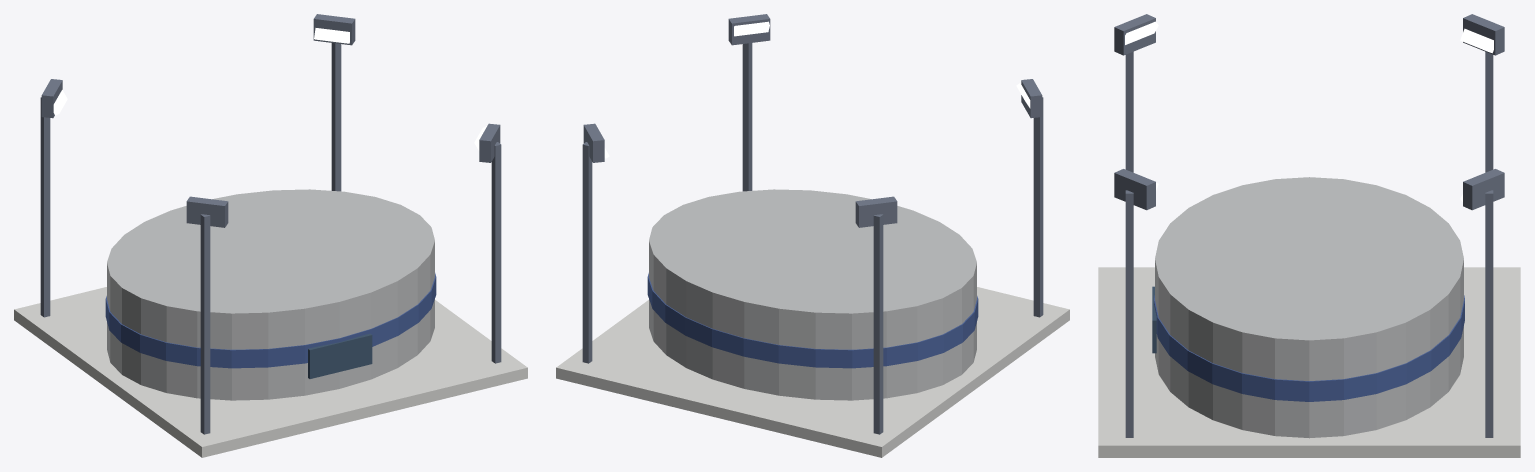
The model's file is stadium.glb.
3 views of the same model, side by side, from view 1: azimuth 30°, elevation 25°; view 2: azimuth 150°, elevation 25°; view 3: azimuth 270°, elevation 25° (orthographic). The views are drawn at different scales.
Visible parts, largest first — view 1: stadium_body; view 2: stadium_body; view 3: stadium_body, Floodlight_2.
Part boxes in pixels (left/top/right/bottom): stadium_body: left=14, top=14, right=527, bottom=457; stadium_body: left=556, top=14, right=1069, bottom=457; stadium_body: left=1098, top=14, right=1520, bottom=457; Floodlight_2: left=1460, top=28, right=1493, bottom=53.
Bounding box in the file's own units: 0.94 × 0.66 × 0.94.
